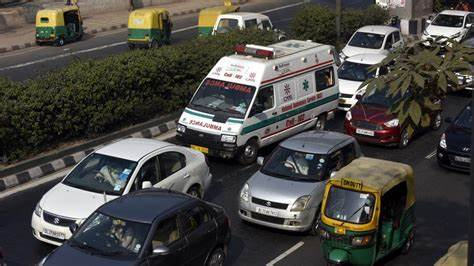ambulance: (176, 34, 344, 144)
